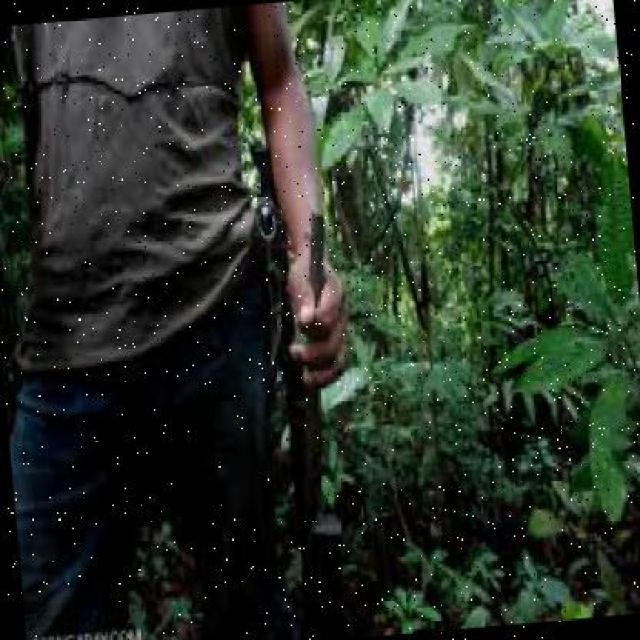weapon: (213, 110, 363, 534)
